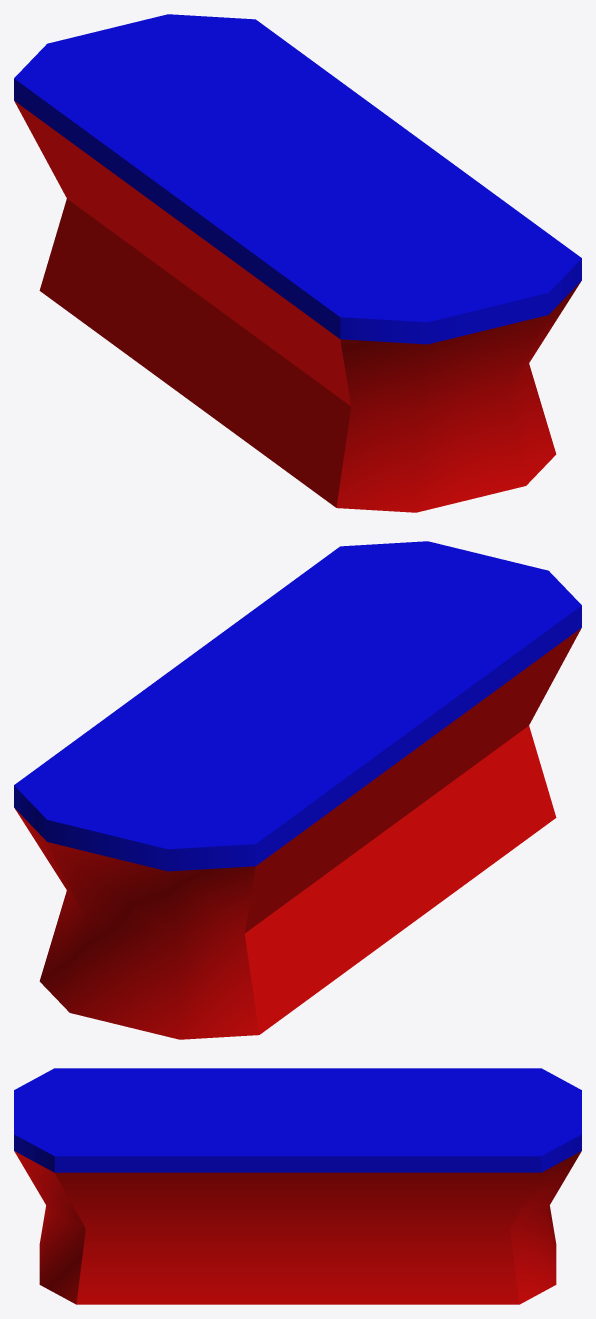
Rendered from Kücheninsel_1_low.fbx.
3 renders of one model, top to bottom at view 1: azimuth 30°, elevation 25°; view 2: azimuth 150°, elevation 25°; view 3: azimuth 270°, elevation 25°, orthographic. The views are drawn at different scales.
Visible parts, largest first — view 1: Kücheninsel_1_low; view 2: Kücheninsel_1_low; view 3: Kücheninsel_1_low.
Part boxes in pixels (bbox=[...]): Kücheninsel_1_low: bbox=[14, 14, 581, 512]; Kücheninsel_1_low: bbox=[14, 541, 581, 1039]; Kücheninsel_1_low: bbox=[14, 1068, 581, 1304].
Size of the model in its own units: 1.14 by 0.9227 by 3.12.
